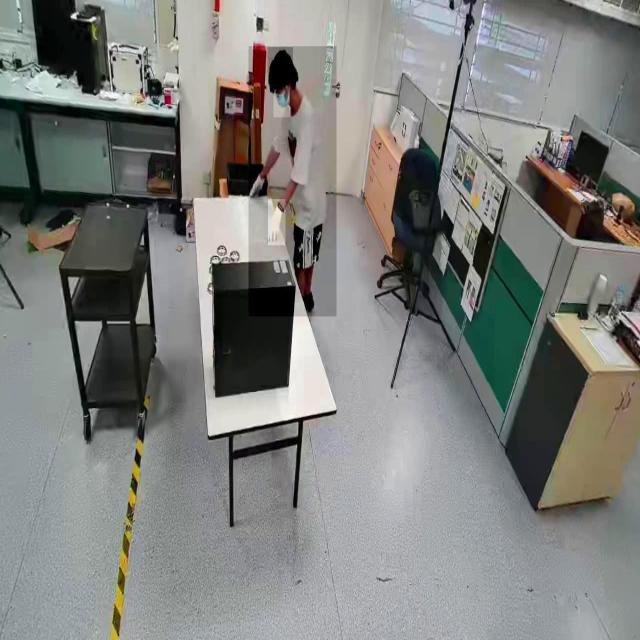face_mask: (274, 86, 290, 118)
hand_glove: (268, 199, 286, 246), (250, 166, 270, 201)
head_nohelmet: (268, 47, 294, 74)
person: (249, 46, 337, 318)
